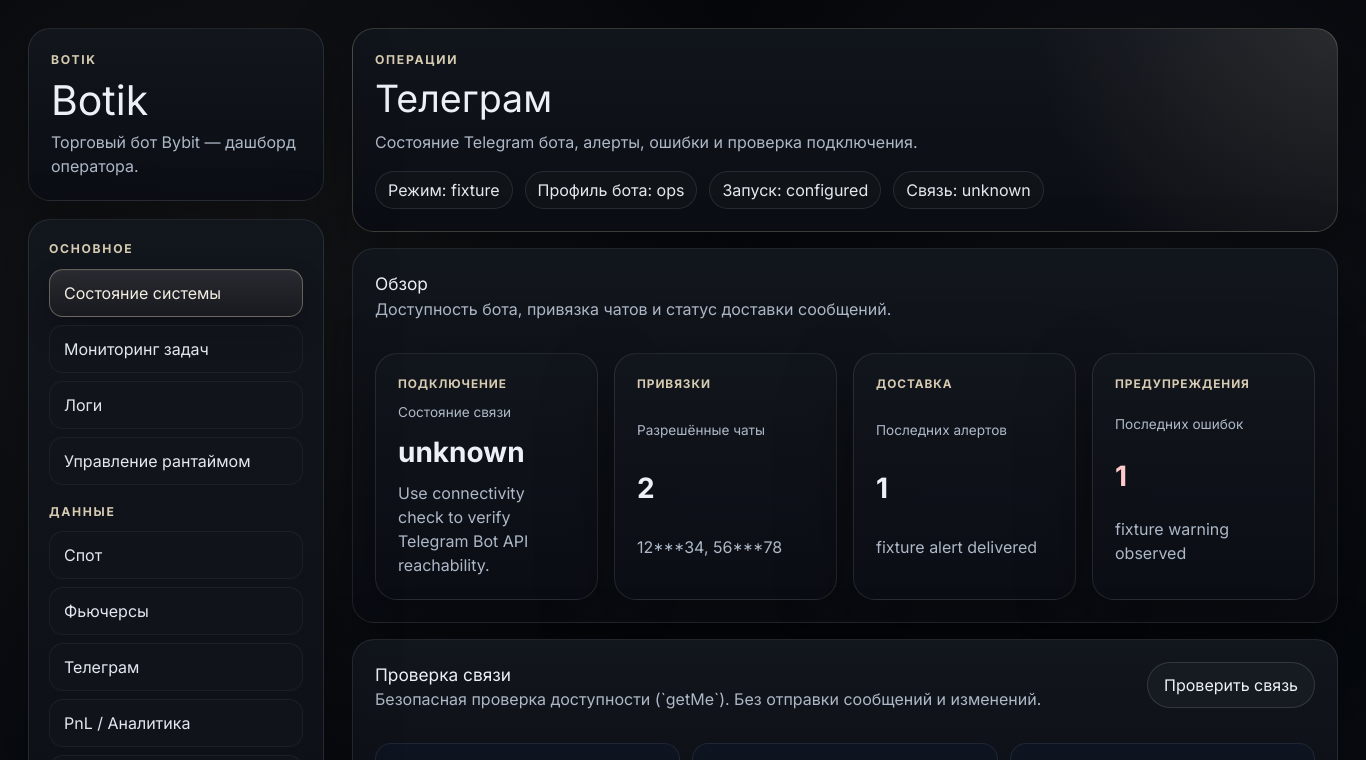
Test case: TelegramPage › renders the bounded telegram ops view and runs a safe connectivity check
Expected: the heading "Телеграм" is shown, left=375, top=76, right=552, bottom=121
Expected: the text with test id "telegram.source-mode" shows "fixture", left=451, top=180, right=500, bottom=200
Click the button with test id "telegram.connectivity-check". click: coordinates (1231, 684)
box: left=1147, top=662, right=1315, bottom=708
(page scrolled)
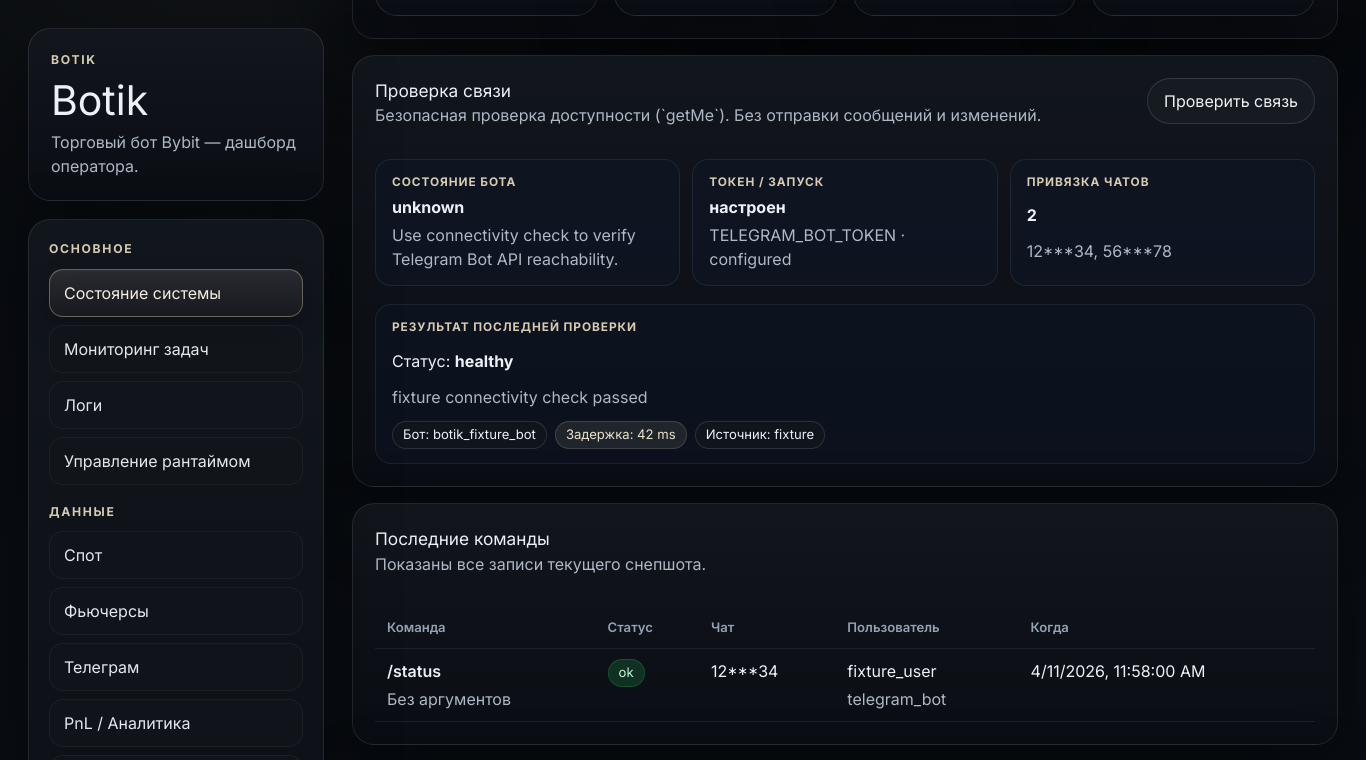
Now the element with test id "telegram.check.result" shows "healthy", box left=455, top=351, right=514, bottom=371
Now the element with test id "telegram.check.result" shows "botik_fixture_bot", box left=433, top=426, right=536, bottom=442
